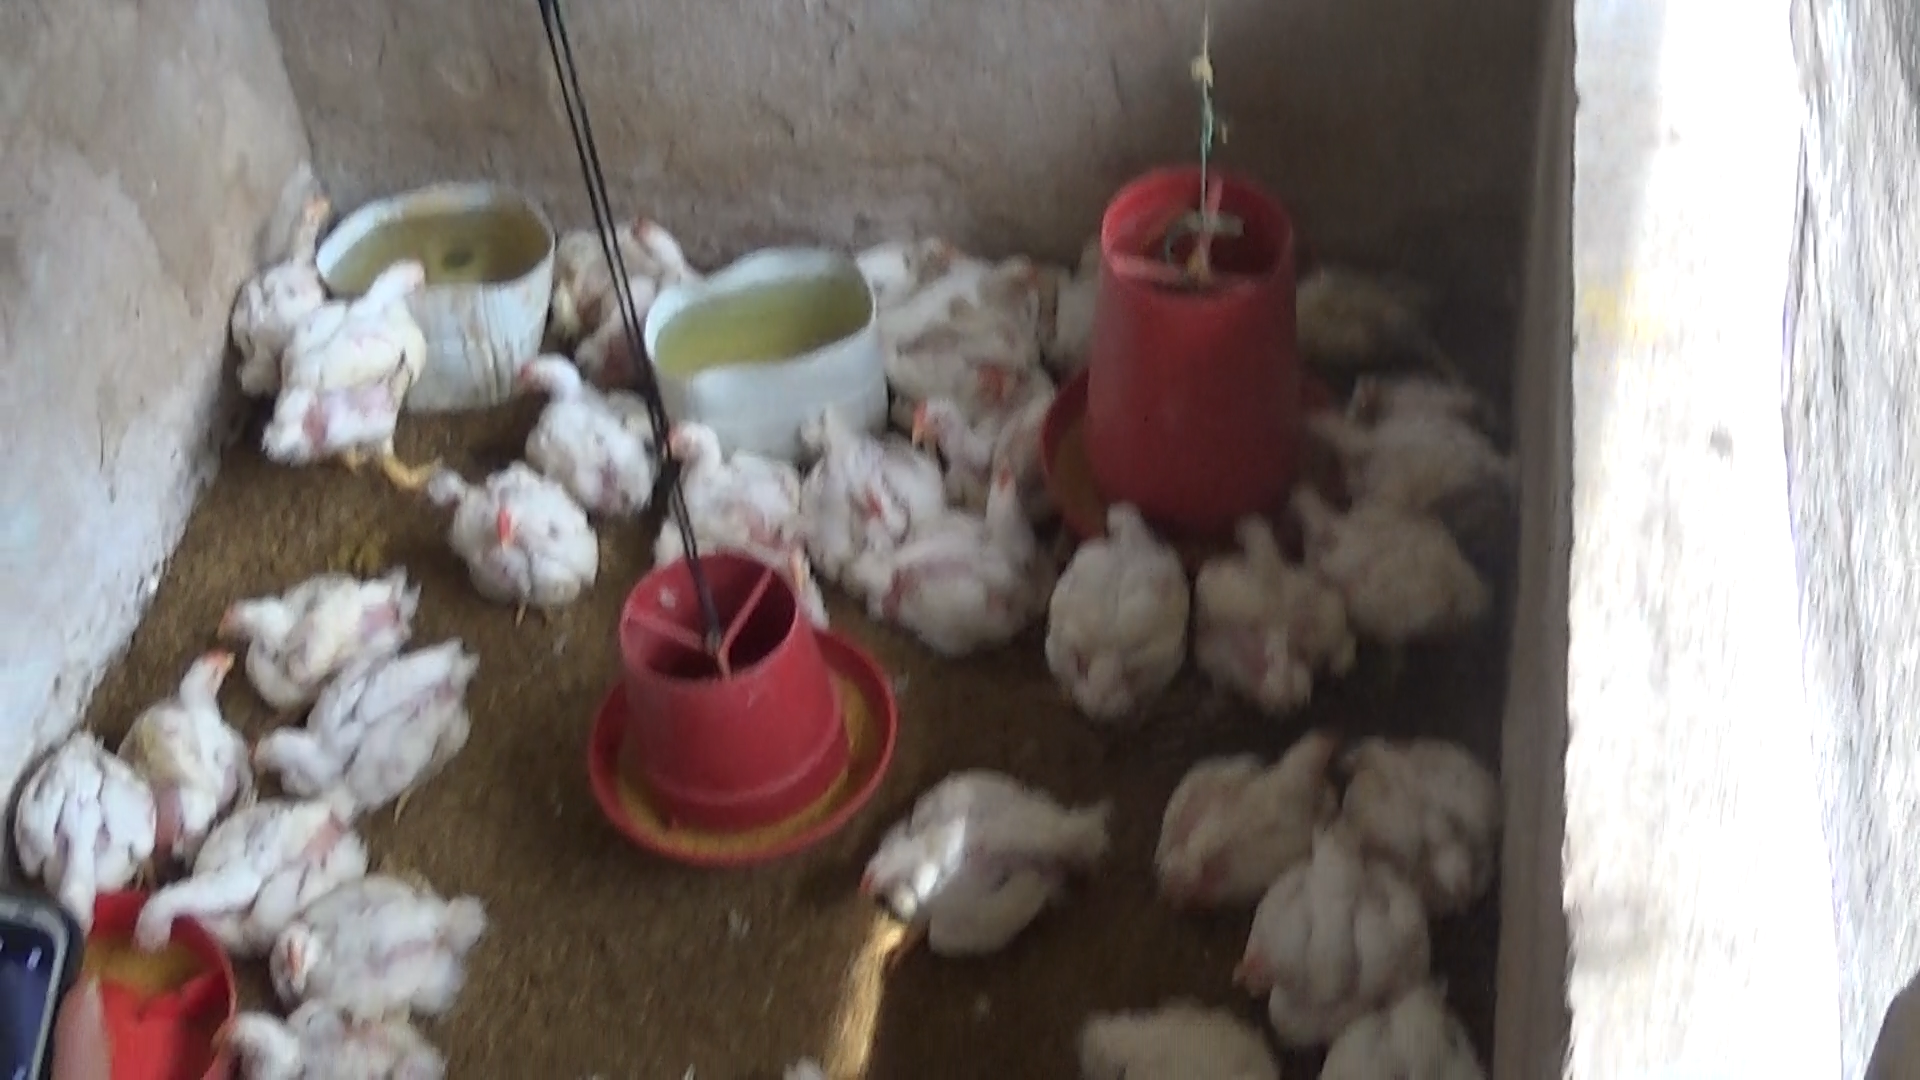Pollos: (843, 762, 1105, 963), (243, 636, 505, 828), (1323, 712, 1526, 942), (261, 251, 444, 497), (1133, 712, 1352, 911), (1232, 816, 1420, 1040), (125, 791, 390, 948), (1017, 492, 1196, 723), (255, 847, 487, 1025), (855, 458, 1040, 655), (1288, 481, 1477, 667), (11, 712, 164, 928), (1180, 506, 1350, 698), (1286, 371, 1516, 506), (436, 454, 597, 644), (218, 564, 419, 709), (779, 392, 920, 583), (109, 640, 243, 833), (508, 332, 657, 497), (227, 187, 328, 411), (916, 245, 1068, 389), (204, 997, 462, 1080), (655, 419, 806, 556), (897, 382, 1069, 492), (597, 200, 725, 305), (862, 229, 967, 318)
